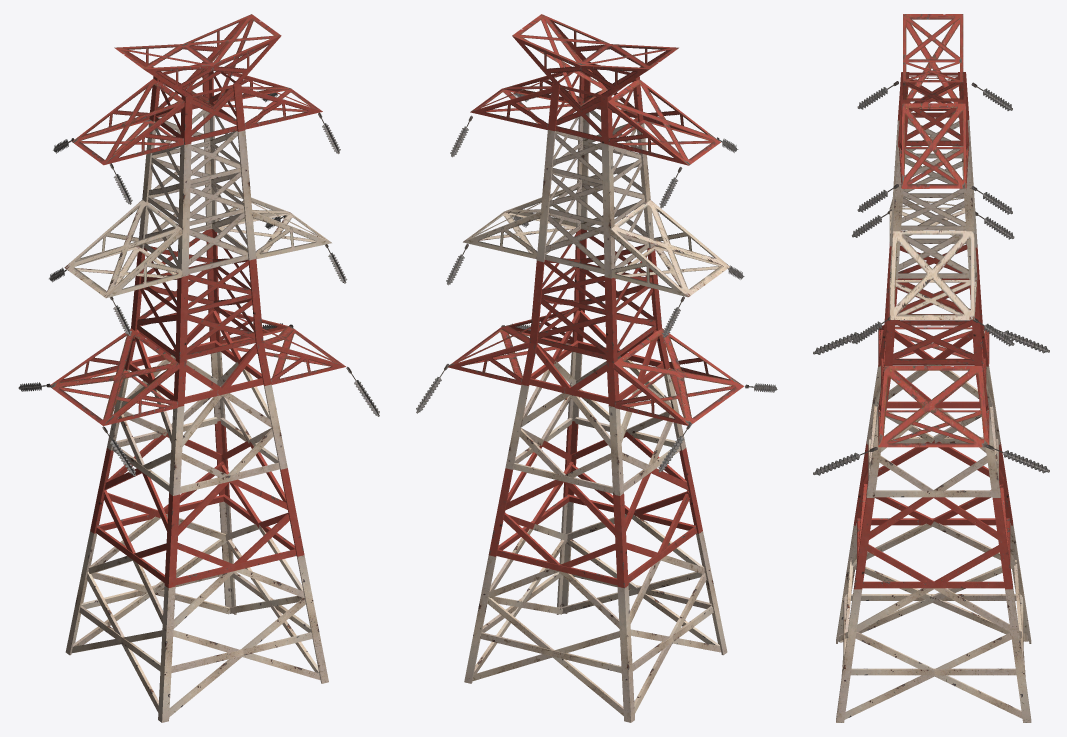
File: Prop_Wj003.glb
The picture shows the model from 3 angles, left to right: view 1: azimuth 30°, elevation 25°; view 2: azimuth 150°, elevation 25°; view 3: azimuth 270°, elevation 25°; orthographic projection.
Parts seen in each view (by area): view 1: xiutz_wj003; view 2: xiutz_wj003; view 3: xiutz_wj003.
Part boxes in pixels (x1,y1,x2,y2): xiutz_wj003: (18, 14, 379, 722); xiutz_wj003: (416, 14, 777, 722); xiutz_wj003: (813, 14, 1049, 722).
Size of the model in its own units: 29.1 by 69.1 by 23.98.
1 material, 1 textured.
